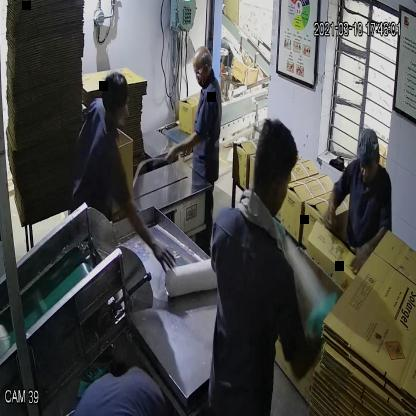no_glove: (112, 169, 179, 276), (350, 221, 396, 277), (161, 129, 209, 170), (316, 180, 341, 237)
